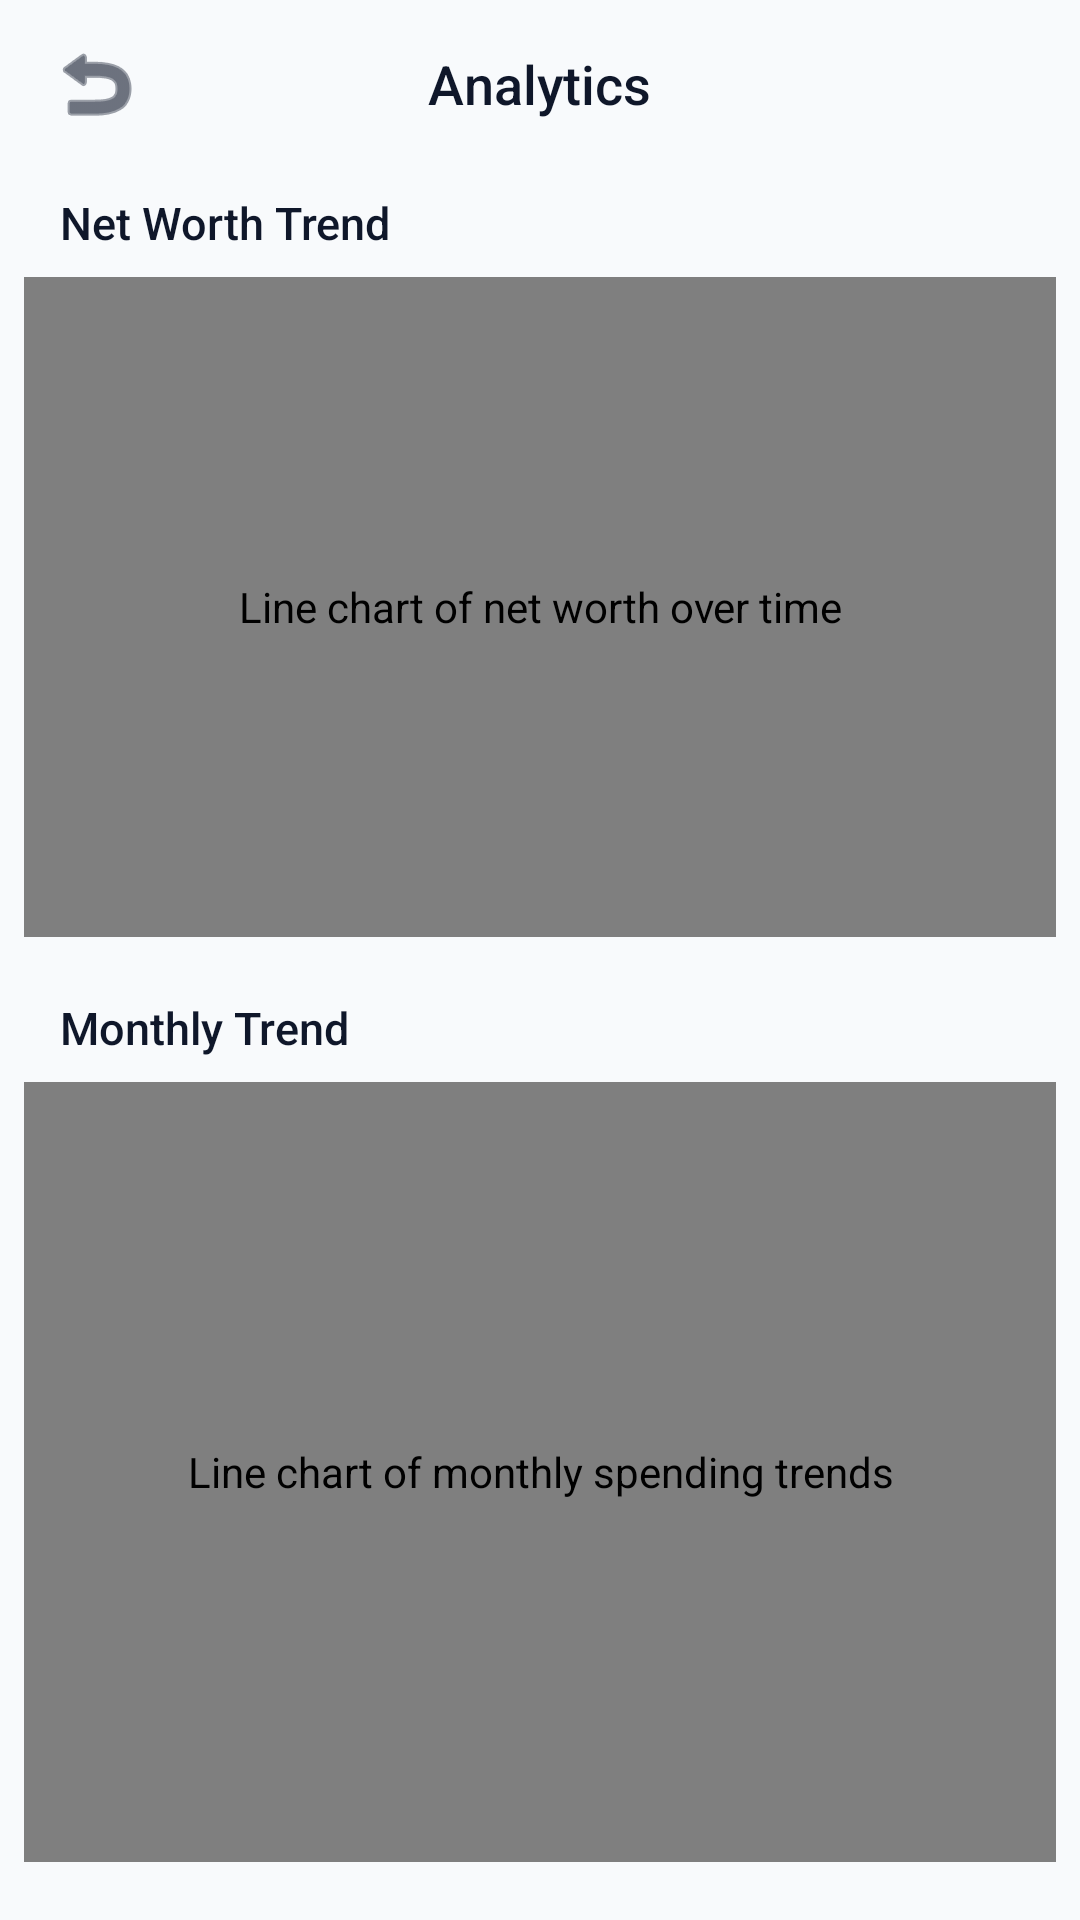

Screen size 1080x1920. Icon name, then its box in pixels as box(x1, y1, x2, y2):
Back: box(63, 53, 132, 116)
